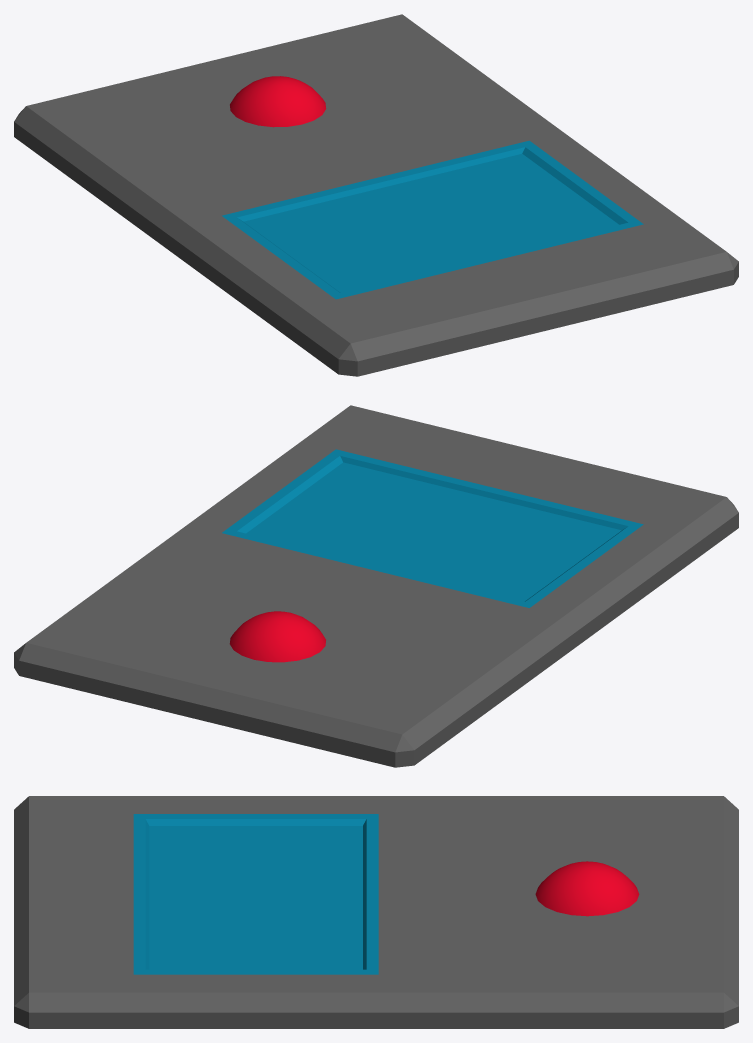
File: fbx_BadgeLocker_v1.0.fbx
3 views of the same model, one above another, from view 1: azimuth 30°, elevation 25°; view 2: azimuth 150°, elevation 25°; view 3: azimuth 270°, elevation 25° (orthographic). The views are drawn at different scales.
Visible parts, largest first — view 1: pCube2; view 2: pCube2; view 3: pCube2.
Boxes of the visible parts, <box> form: pCube2: <box>14,14,738,376</box>; pCube2: <box>14,405,738,767</box>; pCube2: <box>14,796,738,1028</box>.
Size of the model in its own units: 8.22 by 1.05 by 12.04.
